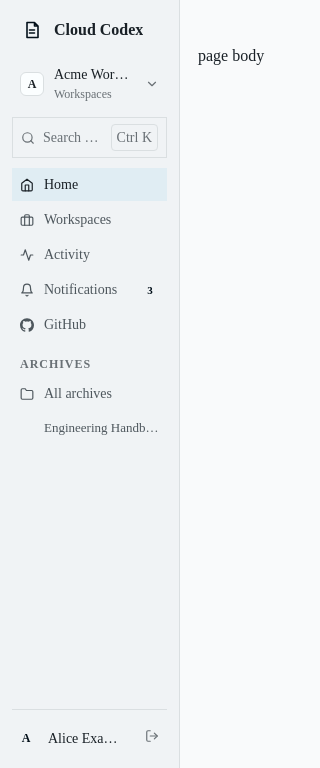
Test: the archives group and the account footer › opens the footer menu on the name, with Account settings and Sign out
The image size is (320, 768).
Expected: the text "page body" is shown, [198,47,264,64]
Click the button "A Alice Example". click: (72, 738)
box: [12,720,131,756]
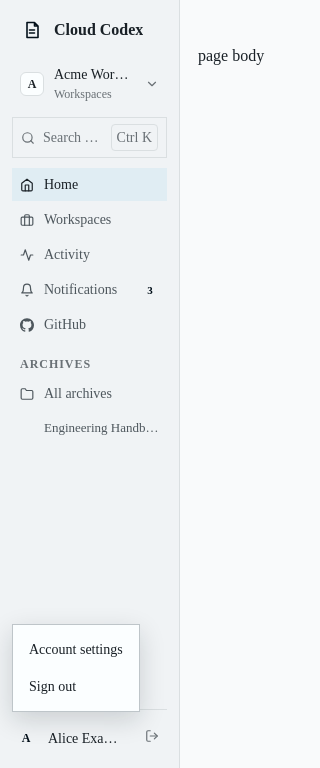
Result: the menu item "Account settings" is shown at [29,642,123,657]
Result: the menu item "Sign out" is shown at [19,668,133,705]
